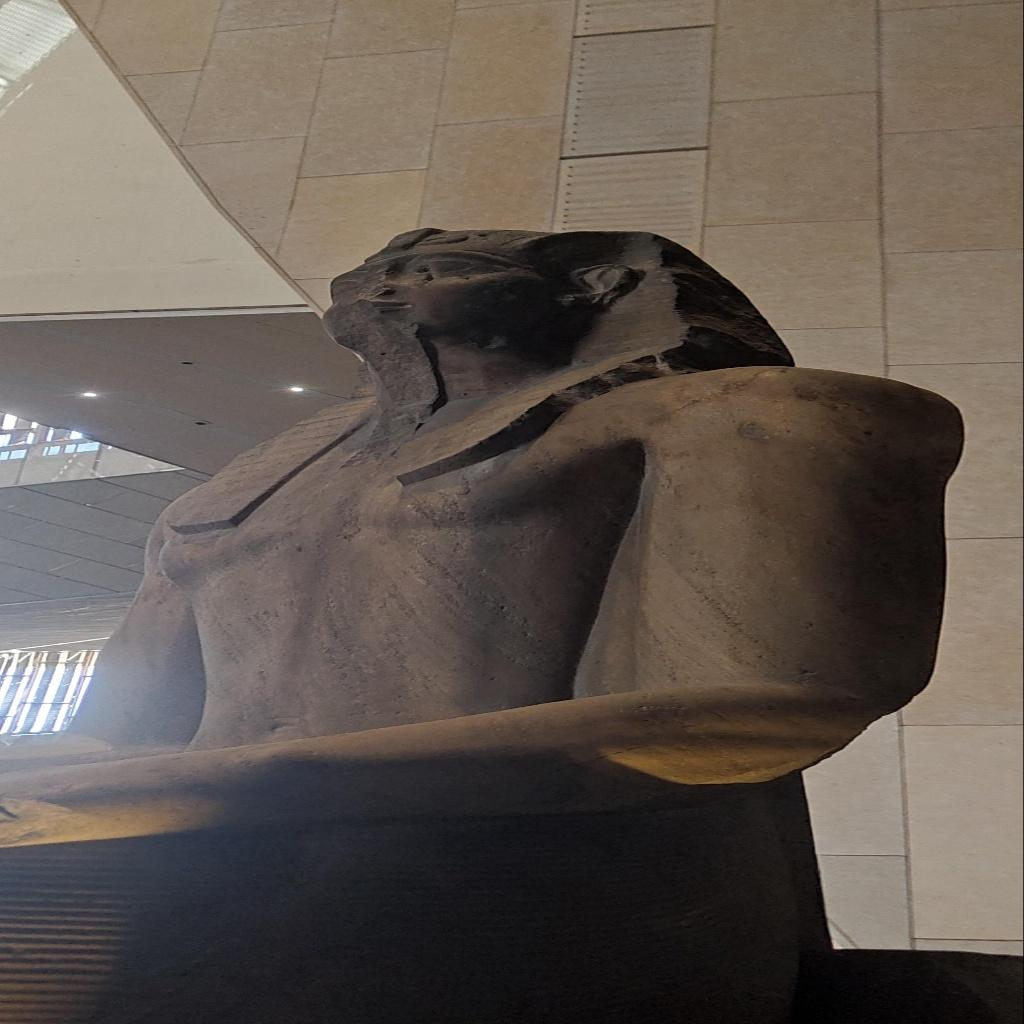Colossal Statue of Middle Kingdom King: (12, 224, 970, 1016)
